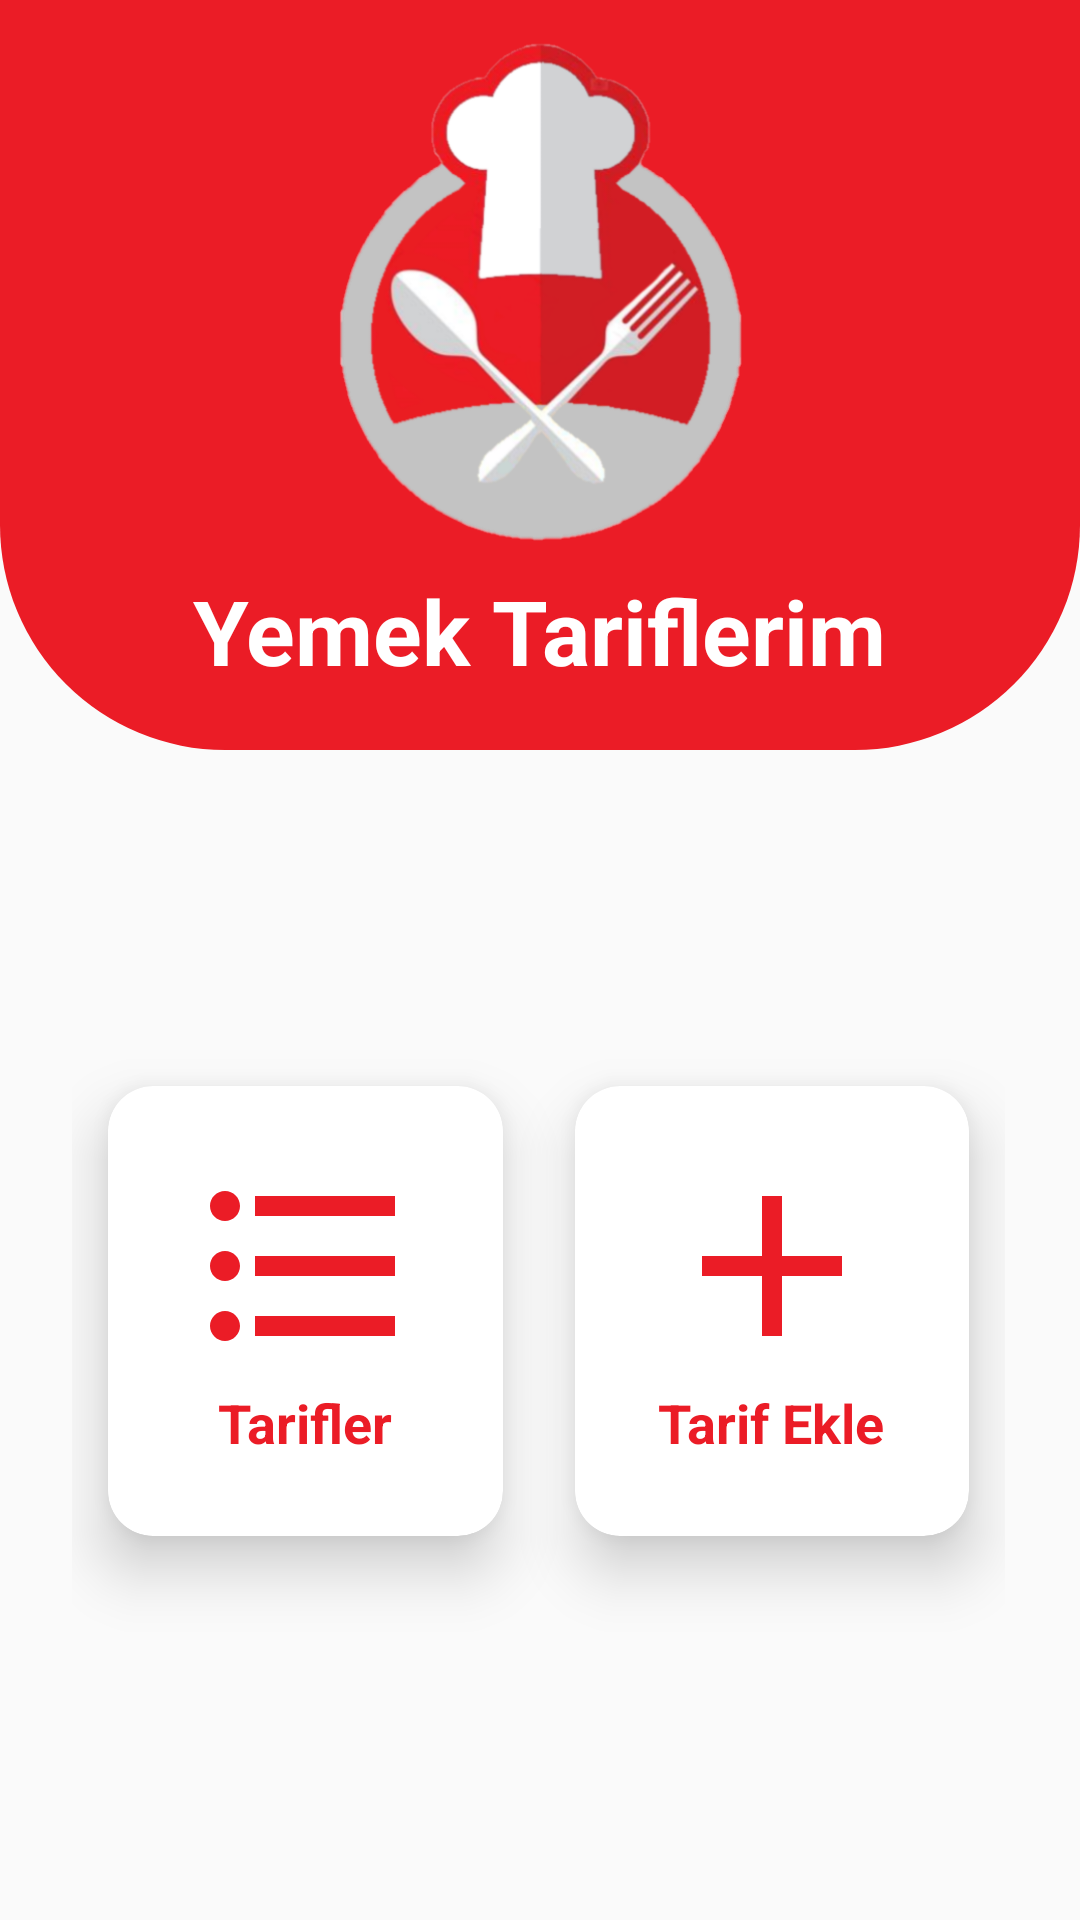

Named icons in this screenshot (1080 × 1920) and their centers, (x,y):
add: (772,1266)
list: (302,1266)
